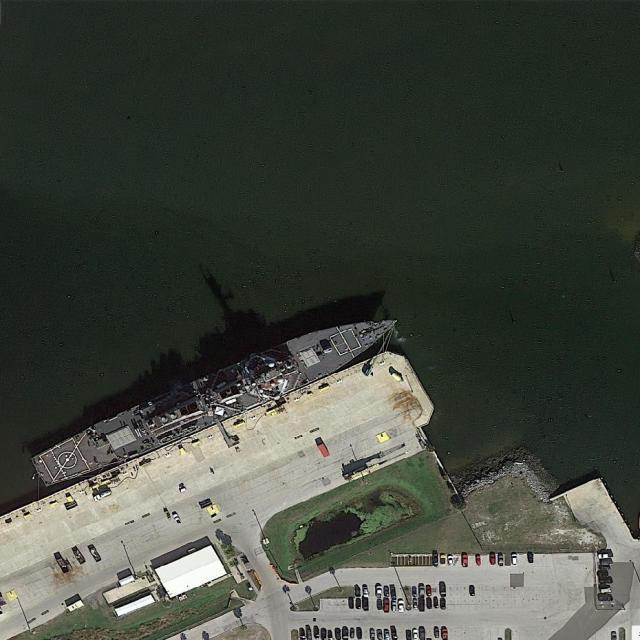Destroyer: (28, 297, 406, 493)
